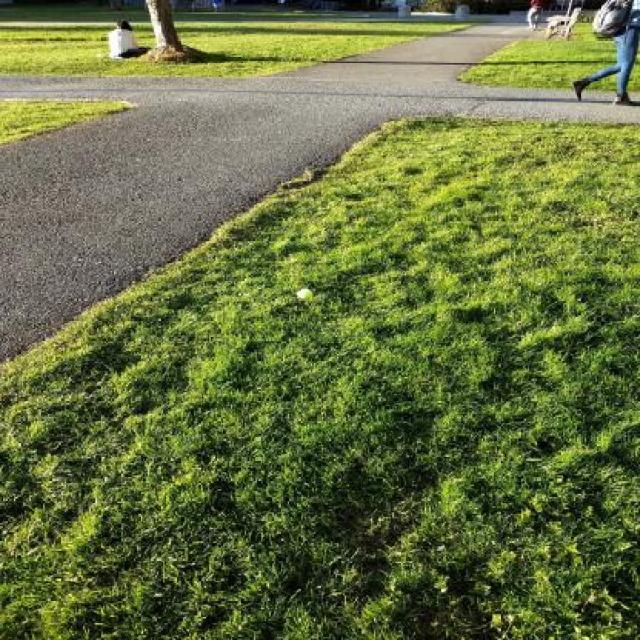Tennis_Ball: (295, 286, 314, 303)
